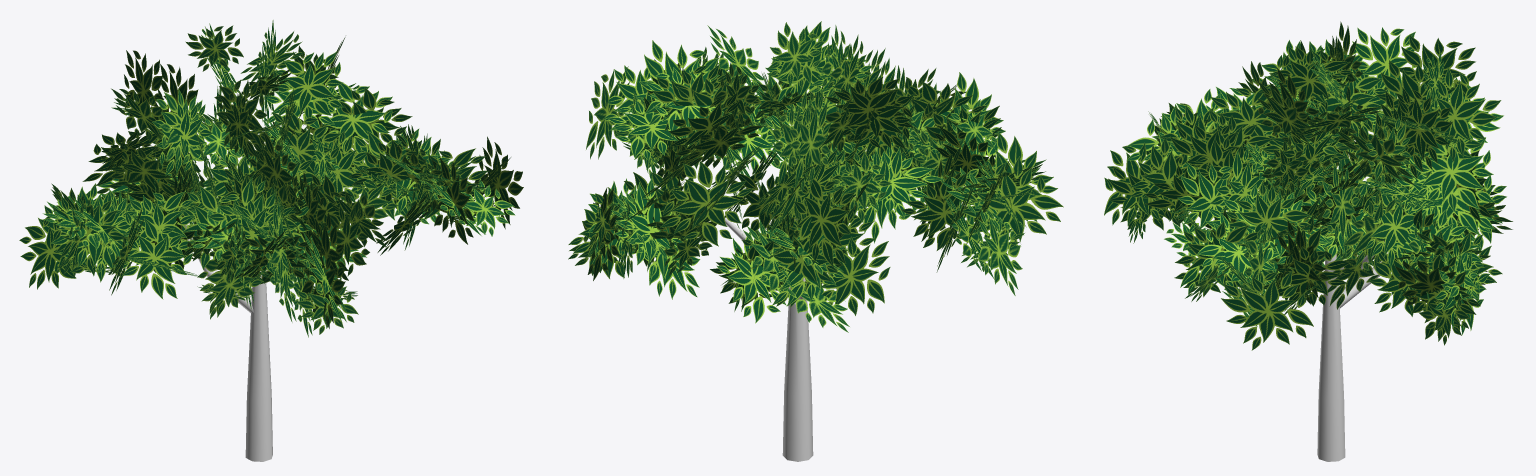
Rendered from Tree1_LOD1.fbx.
3 renders of one model, left to right at view 1: azimuth 30°, elevation 25°; view 2: azimuth 150°, elevation 25°; view 3: azimuth 270°, elevation 25°, orthographic. The views are drawn at different scales.
Visible parts, largest first — view 1: Tree1_LOD1; view 2: Tree1_LOD1; view 3: Tree1_LOD1.
Part boxes in pixels (x1,y1,x2,y2): Tree1_LOD1: (19, 20, 523, 461); Tree1_LOD1: (568, 21, 1063, 461); Tree1_LOD1: (1104, 21, 1512, 461).
Bounding box in the file's own units: 1200 × 1030 × 957.
